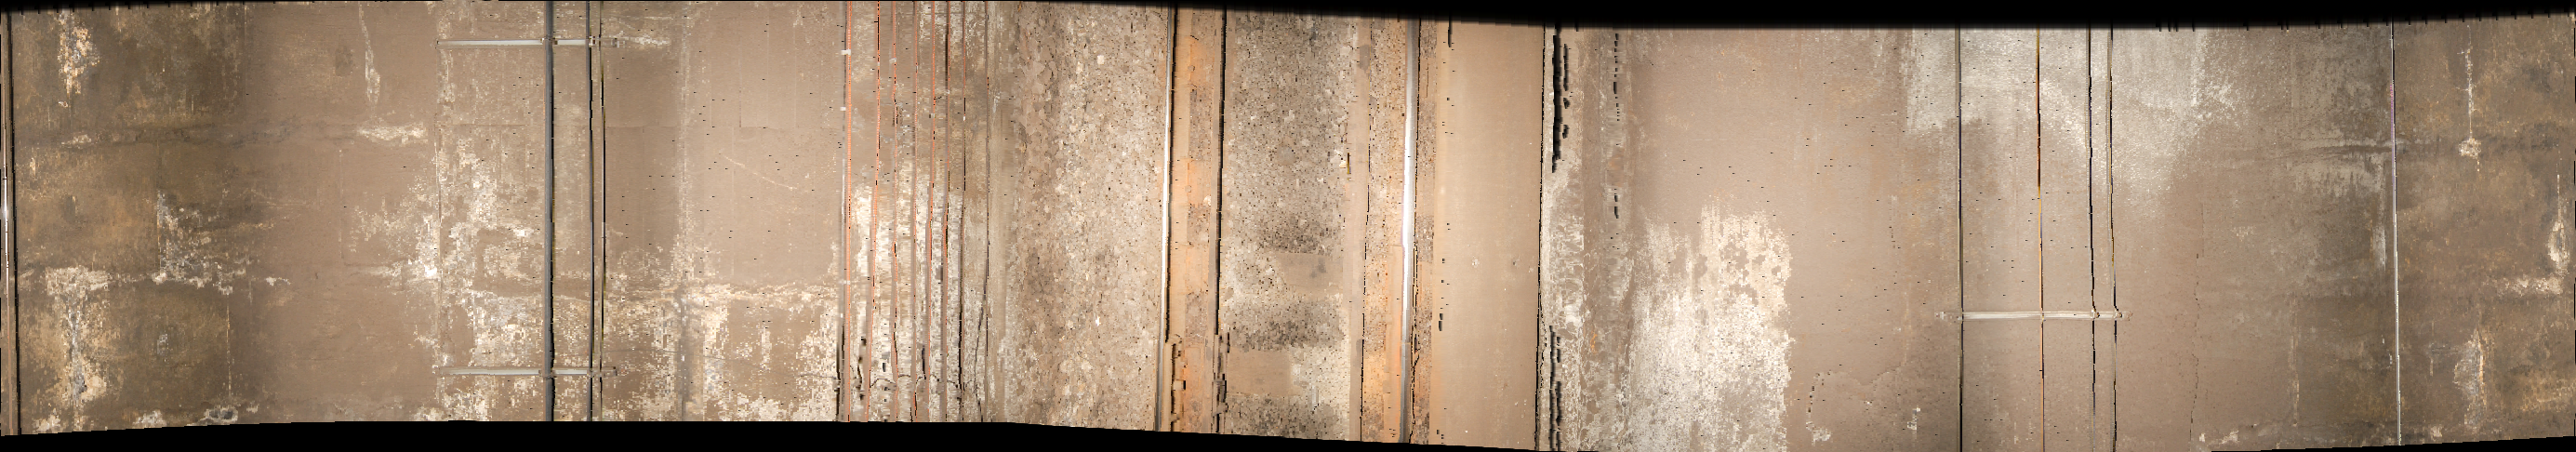pipes: (1945, 28, 2123, 452), (836, 2, 997, 449), (532, 3, 616, 452), (2380, 26, 2418, 452)
tracks: (1158, 16, 1566, 452)
